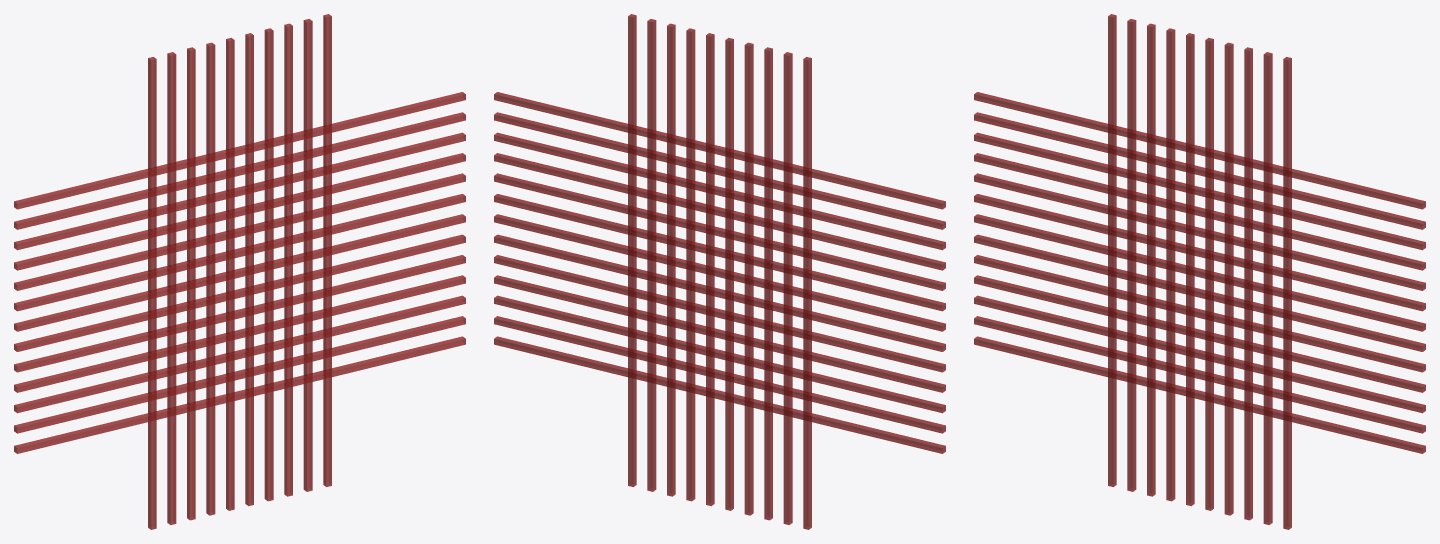
The model's file is Lvl_000.fbx.
3 views of the same model, side by side, from view 1: azimuth 30°, elevation 25°; view 2: azimuth 150°, elevation 25°; view 3: azimuth 330°, elevation 25° (orthographic).
Parts seen in each view (by area): view 1: pCube8, pCube10, pCube5, pCube3, pCube1, pCube13, pCube21, pCube15, pCube17, pCube19, pCube20, pCube14 (+11 smaller); view 2: pCube8, pCube10, pCube3, pCube5, pCube1, pCube13, pCube21, pCube17, pCube20, pCube18, pCube15, pCube19 (+11 smaller); view 3: pCube3, pCube5, pCube8, pCube10, pCube13, pCube21, pCube16, pCube17, pCube18, pCube1, pCube15, pCube20 (+11 smaller).
Boxes of the visible parts, bbox=[...] form: pCube8: bbox=[206, 42, 215, 515]; pCube10: bbox=[167, 52, 176, 524]; pCube5: bbox=[303, 19, 312, 491]; pCube3: bbox=[264, 28, 273, 501]; pCube1: bbox=[14, 336, 465, 453]; pCube13: bbox=[14, 295, 465, 413]; pCube21: bbox=[14, 132, 465, 250]; pCube15: bbox=[14, 255, 465, 372]; pCube17: bbox=[14, 214, 465, 331]; pCube19: bbox=[14, 173, 465, 290]; pCube20: bbox=[14, 153, 465, 270]; pCube14: bbox=[14, 275, 465, 392]; pCube8: bbox=[744, 42, 753, 515]; pCube10: bbox=[783, 52, 792, 524]; pCube3: bbox=[686, 28, 695, 501]; pCube5: bbox=[647, 19, 656, 491]; pCube1: bbox=[494, 336, 945, 453]; pCube13: bbox=[494, 295, 945, 413]; pCube21: bbox=[494, 132, 945, 250]; pCube17: bbox=[494, 214, 945, 331]; pCube20: bbox=[494, 153, 945, 270]; pCube18: bbox=[494, 194, 945, 311]; pCube15: bbox=[494, 255, 945, 372]; pCube19: bbox=[494, 173, 945, 290]; pCube3: bbox=[1224, 42, 1233, 515]; pCube5: bbox=[1263, 52, 1272, 524]; pCube8: bbox=[1166, 28, 1175, 501]; pCube10: bbox=[1127, 19, 1136, 491]; pCube13: bbox=[974, 295, 1425, 413]; pCube21: bbox=[974, 132, 1425, 250]; pCube16: bbox=[974, 234, 1425, 351]; pCube17: bbox=[974, 214, 1425, 331]; pCube18: bbox=[974, 194, 1425, 311]; pCube1: bbox=[974, 336, 1425, 453]; pCube15: bbox=[974, 255, 1425, 372]; pCube20: bbox=[974, 153, 1425, 270].
Bounding box in the file's own units: 2000 × 2000 × 25.
